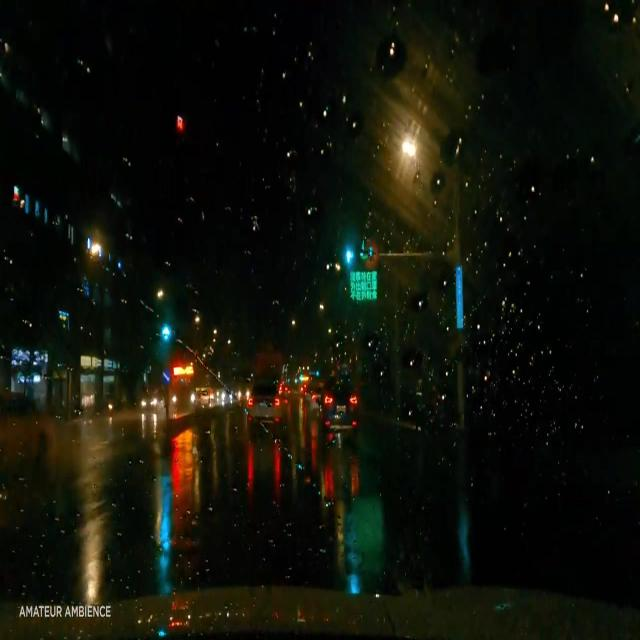Car: (318, 380, 357, 439), (245, 380, 284, 435)
